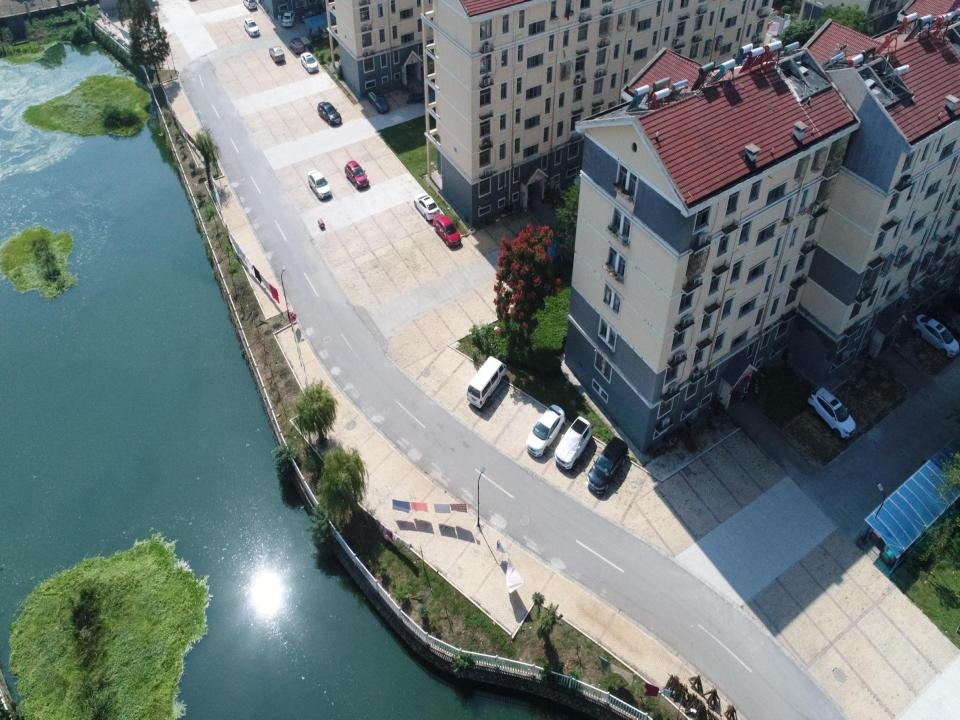car: (807, 388, 855, 441), (588, 437, 628, 494), (526, 402, 565, 458), (554, 416, 592, 472), (913, 314, 958, 360), (433, 212, 462, 248), (930, 303, 960, 337), (345, 157, 369, 190), (308, 170, 332, 200), (317, 98, 342, 126), (414, 194, 439, 221), (369, 90, 391, 112), (301, 52, 319, 74), (244, 16, 260, 36), (269, 44, 285, 64), (289, 36, 305, 54), (282, 10, 296, 28), (301, 8, 319, 20), (243, 0, 257, 11)
van: (466, 356, 507, 409)
